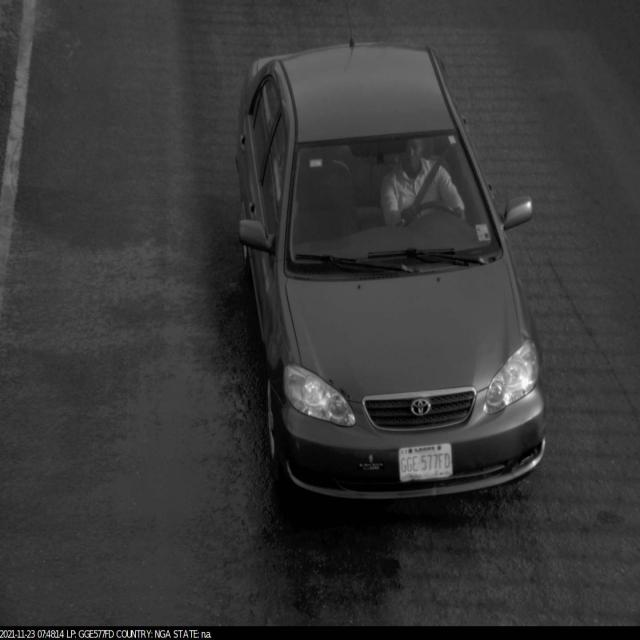windshield: (272, 126, 514, 288)
